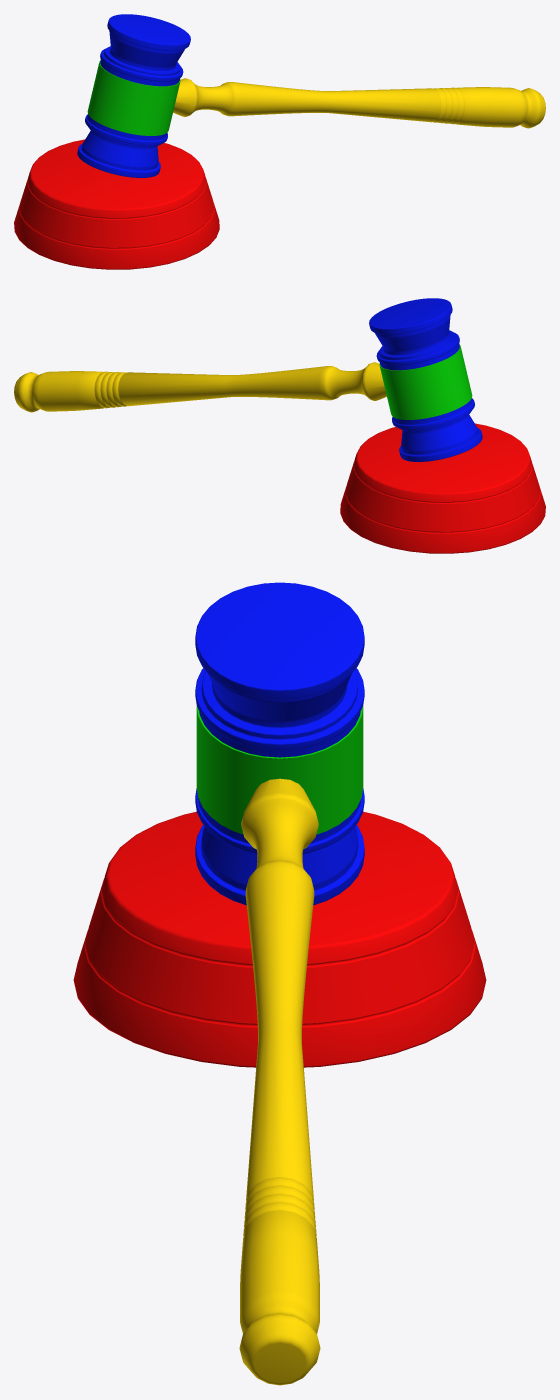
Rendered from judge SP ready.fbx.
3 renders of one model, top to bottom at view 1: azimuth 30°, elevation 25°; view 2: azimuth 150°, elevation 25°; view 3: azimuth 270°, elevation 25°, orthographic. The views are drawn at different scales.
Visible parts, largest first — view 1: Line001, Line004, Object001, Line003; view 2: Line001, Line004, Object001, Line003; view 3: Line001, Line004, Object001, Line003.
Part boxes in pixels (box(x1,y1,x2,y2)): Line001: box(14, 139, 219, 269); Line004: box(173, 78, 545, 128); Object001: box(77, 14, 190, 177); Line003: box(87, 60, 180, 135); Line001: box(340, 423, 545, 553); Line004: box(14, 362, 386, 412); Object001: box(369, 298, 482, 461); Line003: box(379, 344, 472, 419); Line001: box(73, 811, 486, 1067); Line004: box(239, 778, 320, 1385); Object001: box(195, 582, 364, 905); Line003: box(196, 706, 363, 834).
Bounding box in the file's own units: 201 × 74.35 × 69.93.
